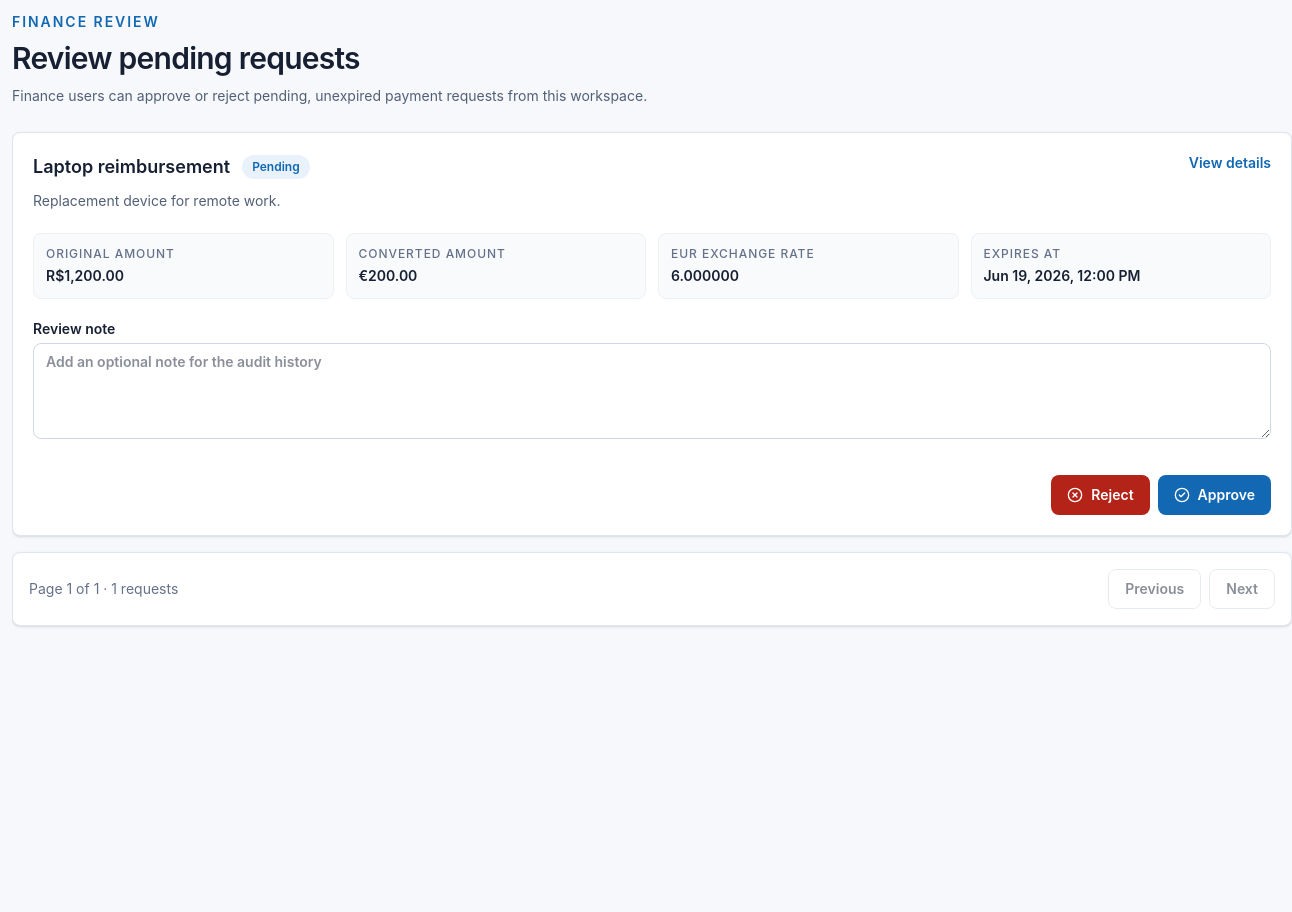
FinanceReviewPage › shows a conflict message when the request is no longer reviewable
The width and height of the screenshot is (1292, 912).
What coordinates should you click on to do the following:
click the button "Approve"
I would click on:
 (1214, 495)
Its box is [1158,475,1271,515].
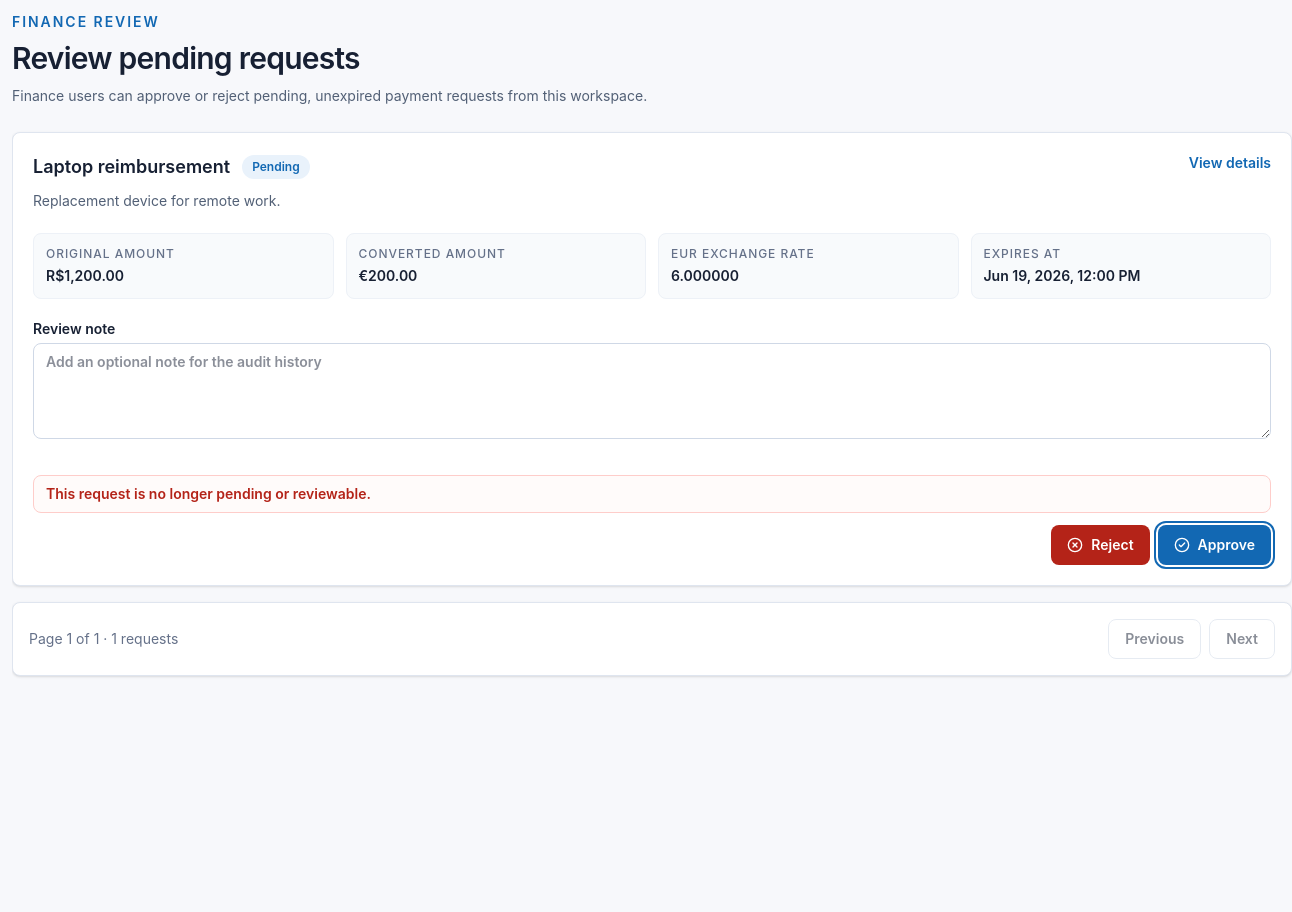
Expected: the text "This request is no longer pending or reviewable." is shown, [33,475,1271,513]
